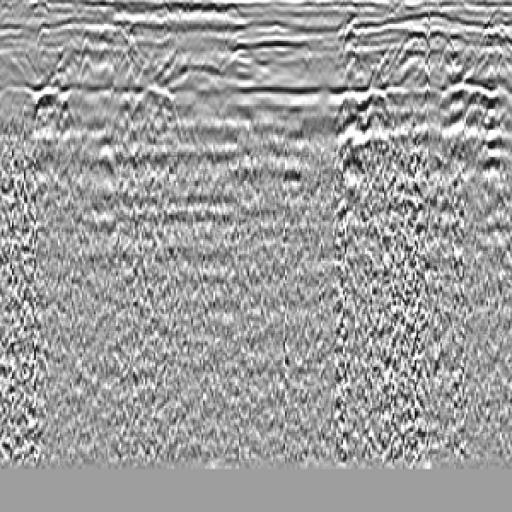non-metallic: (8, 64, 106, 276), (312, 69, 412, 268)
